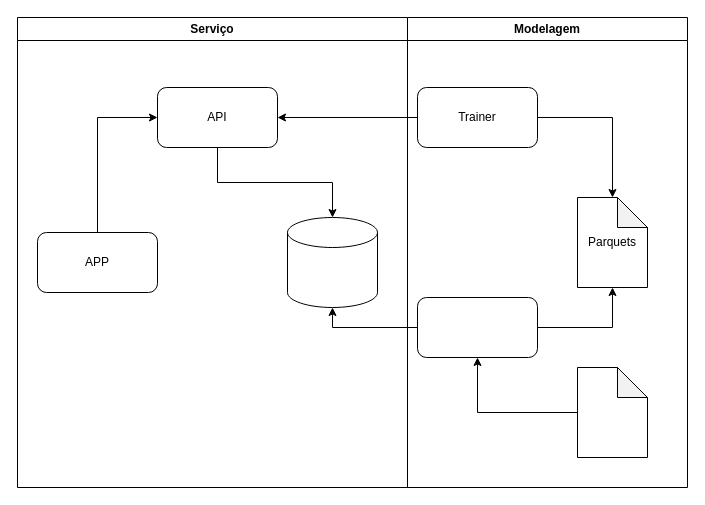
This 705x505 diagram has some shape labels left out. Each missing label, with the centre of its shape:
"Banco de dados" goes at [332,262].
"Csv(s)" goes at [612,412].
"Notebooks" goes at [477,327].
